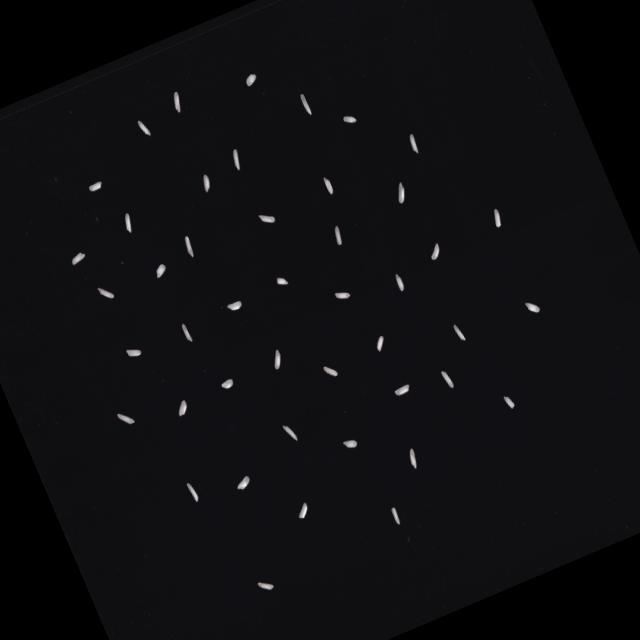Chalky: (267, 348, 284, 371), (115, 408, 134, 428), (392, 180, 408, 203), (297, 92, 312, 116), (280, 422, 296, 444), (228, 148, 242, 172), (168, 90, 183, 112), (172, 399, 190, 417), (233, 474, 251, 492), (256, 576, 274, 594), (96, 283, 113, 302), (180, 235, 194, 258), (120, 212, 134, 234), (184, 481, 198, 503), (136, 117, 150, 139), (257, 210, 275, 227), (523, 298, 540, 316), (293, 502, 310, 520), (439, 368, 453, 389), (321, 362, 338, 379), (426, 242, 442, 260), (321, 174, 334, 196), (198, 173, 212, 193), (488, 208, 502, 228), (124, 344, 141, 360), (332, 287, 350, 302), (68, 250, 86, 265), (392, 383, 410, 398), (392, 272, 405, 292), (152, 262, 168, 278), (242, 72, 258, 88), (452, 322, 464, 343), (225, 298, 243, 312), (406, 448, 418, 469), (330, 225, 342, 246), (406, 134, 418, 154), (180, 322, 192, 342), (372, 335, 386, 352), (341, 437, 357, 451), (340, 112, 356, 126), (389, 507, 400, 526), (86, 180, 102, 193), (274, 274, 288, 288), (502, 394, 514, 409), (219, 378, 234, 390)
